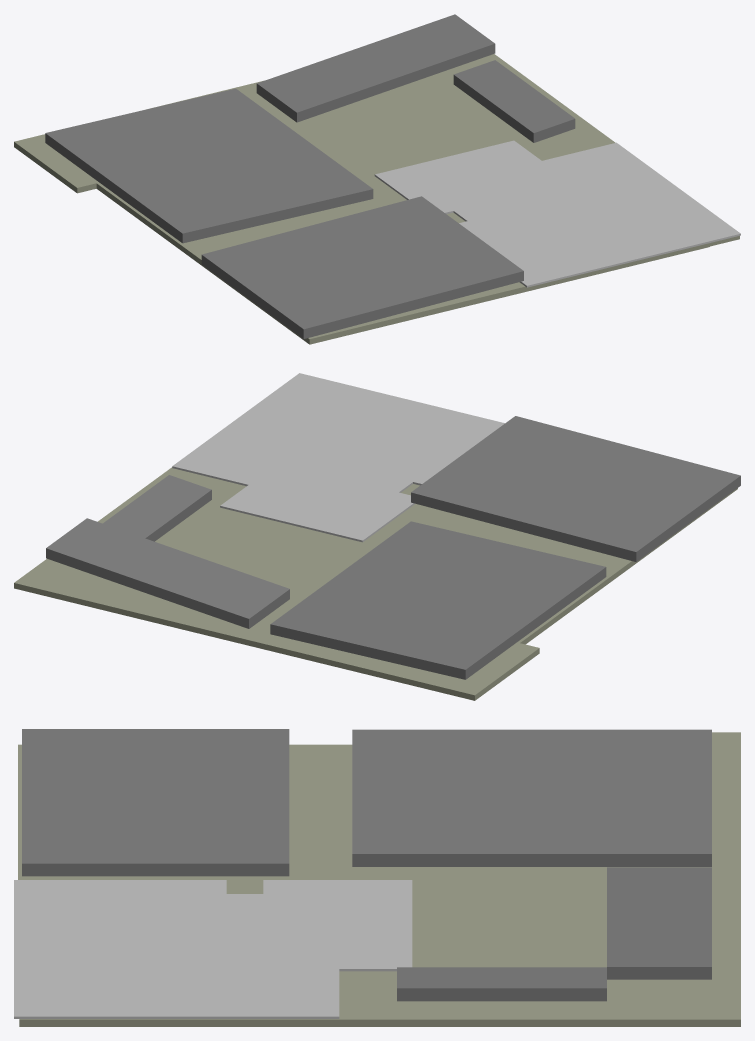
The model's file is PROJETO BIM 12 ANDARES_Cobertura_IfcSlab.dae.
The picture shows the model from 3 angles, top to bottom: view 1: azimuth 30°, elevation 25°; view 2: azimuth 150°, elevation 25°; view 3: azimuth 270°, elevation 25°; orthographic projection. The views are drawn at different scales.
Visible parts, largest first — view 1: 09FUhpNd17hxATKHNAqt_b, 3YynLUipX9FRAfmce6X1Pe, 26GoA_wS143AyfeO9XmiWR, 0P6$Po8SP1TuSB9LuwF8YV, 0P6$Po8SP1TuSB9LywF8Ww, 0P6$Po8SP1TuSB9LuwF8Ww; view 2: 09FUhpNd17hxATKHNAqt_b, 3YynLUipX9FRAfmce6X1Pe, 26GoA_wS143AyfeO9XmiWR, 0P6$Po8SP1TuSB9LuwF8YV, 0P6$Po8SP1TuSB9LywF8Ww, 0P6$Po8SP1TuSB9LuwF8Ww; view 3: 26GoA_wS143AyfeO9XmiWR, 09FUhpNd17hxATKHNAqt_b, 3YynLUipX9FRAfmce6X1Pe, 0P6$Po8SP1TuSB9LuwF8YV, 0P6$Po8SP1TuSB9LywF8Ww, 0P6$Po8SP1TuSB9LuwF8Ww.
Part boxes in pixels (x1,y1,x2,y2): 09FUhpNd17hxATKHNAqt_b: [374, 140, 740, 287]; 3YynLUipX9FRAfmce6X1Pe: [45, 88, 373, 243]; 26GoA_wS143AyfeO9XmiWR: [14, 54, 739, 344]; 0P6$Po8SP1TuSB9LuwF8YV: [201, 196, 523, 338]; 0P6$Po8SP1TuSB9LywF8Ww: [256, 14, 495, 122]; 0P6$Po8SP1TuSB9LuwF8Ww: [453, 60, 575, 142]; 09FUhpNd17hxATKHNAqt_b: [172, 373, 504, 542]; 3YynLUipX9FRAfmce6X1Pe: [270, 521, 606, 679]; 26GoA_wS143AyfeO9XmiWR: [14, 467, 737, 700]; 0P6$Po8SP1TuSB9LuwF8YV: [411, 416, 740, 561]; 0P6$Po8SP1TuSB9LywF8Ww: [46, 518, 289, 628]; 0P6$Po8SP1TuSB9LuwF8Ww: [103, 475, 211, 541]; 26GoA_wS143AyfeO9XmiWR: [18, 732, 740, 1026]; 09FUhpNd17hxATKHNAqt_b: [14, 880, 412, 1018]; 3YynLUipX9FRAfmce6X1Pe: [352, 729, 711, 866]; 0P6$Po8SP1TuSB9LuwF8YV: [22, 729, 289, 876]; 0P6$Po8SP1TuSB9LywF8Ww: [607, 867, 711, 979]; 0P6$Po8SP1TuSB9LuwF8Ww: [397, 967, 606, 1001].
Bounding box in the file's own units: 12.96 × 13.85 × 0.9928.
